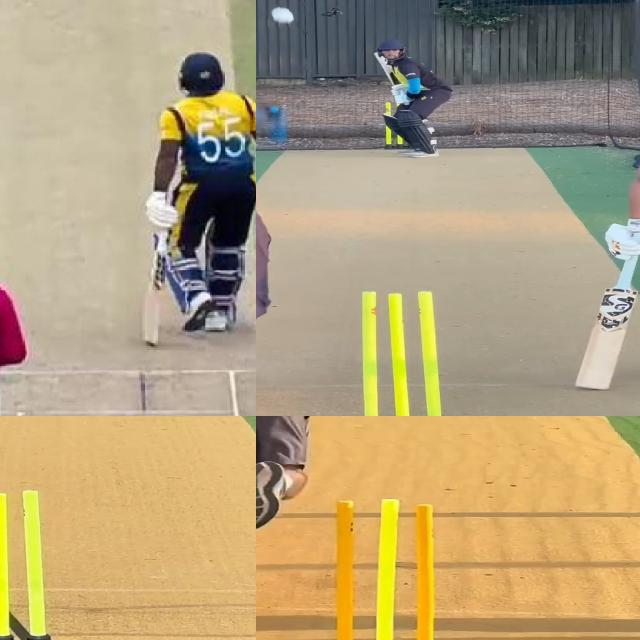Cricket ball: (266, 1, 300, 28)
Stumps: (311, 498, 452, 640), (351, 289, 461, 416), (0, 490, 63, 640)
